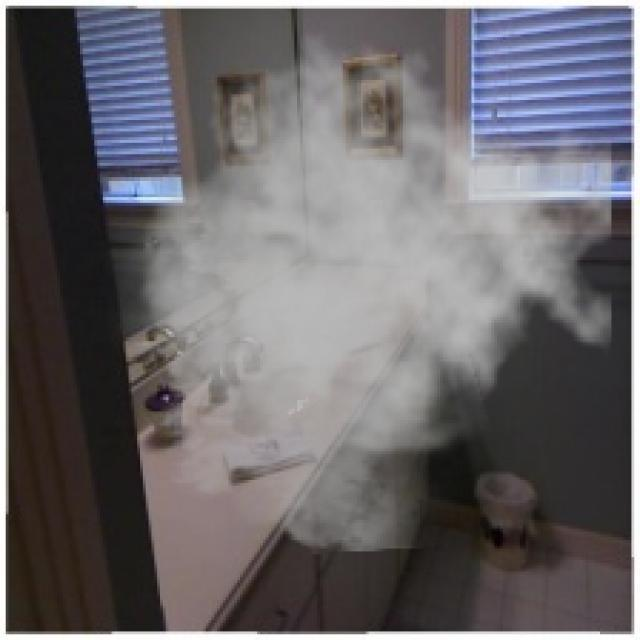Smoke: (91, 28, 612, 554)
